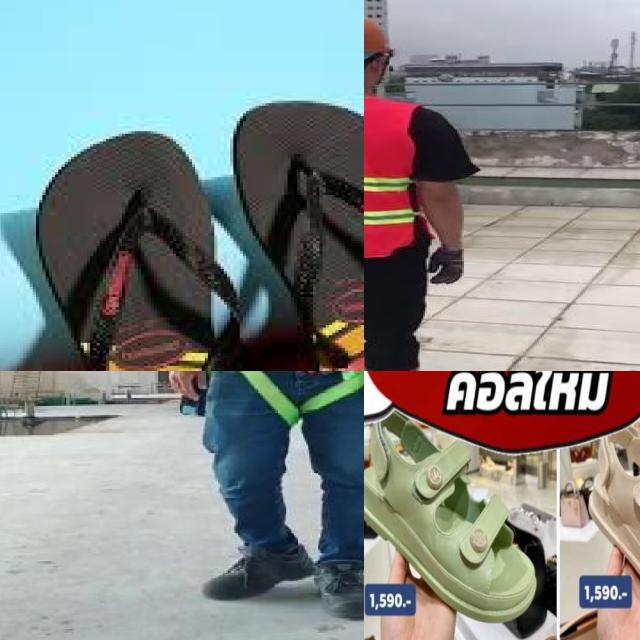Sandals: (0, 81, 364, 371)
hand_glove: (432, 244, 464, 284)
hand_noglove: (161, 371, 215, 402)
head_helmet: (364, 8, 396, 58)
person: (157, 371, 364, 617), (364, 5, 481, 371)
shoes: (194, 538, 318, 603), (304, 546, 364, 625)
vest: (364, 100, 424, 256)
